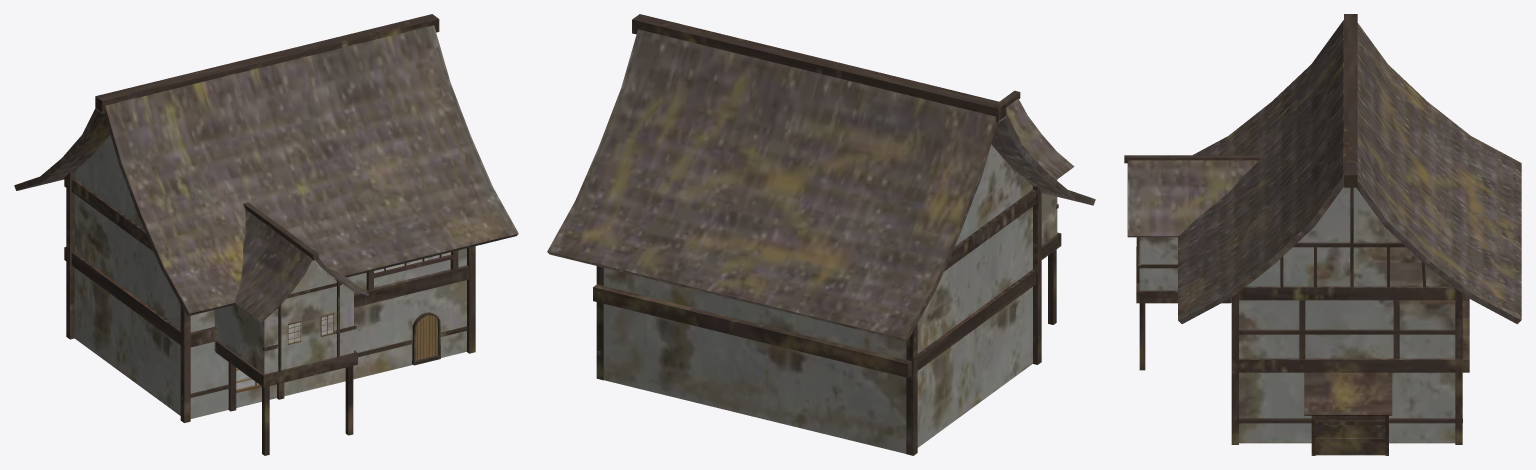
File: oldhouse.glb
The picture shows the model from 3 angles, left to right: view 1: azimuth 30°, elevation 25°; view 2: azimuth 150°, elevation 25°; view 3: azimuth 270°, elevation 25°; orthographic projection. The views are drawn at different scales.
Visible parts, largest first — view 1: polySurface285; view 2: polySurface285; view 3: polySurface285.
Boxes of the visible parts, x1=… form: polySurface285: x1=14, y1=14, x2=518, y2=455; polySurface285: x1=547, y1=14, x2=1095, y2=455; polySurface285: x1=1124, y1=14, x2=1521, y2=455.
Bounding box in the file's own units: 0.288 × 0.2298 × 0.2888.
1 material, 1 textured.
